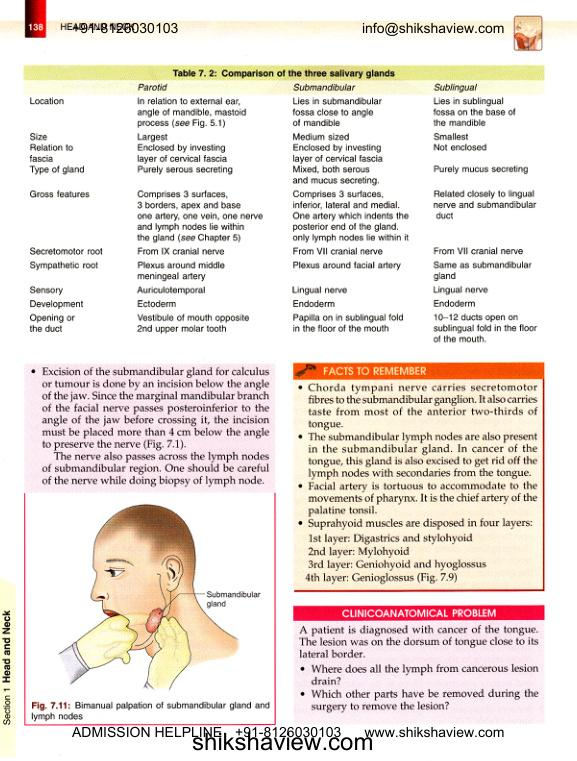caption: (29, 700, 272, 722), (172, 67, 396, 80), (340, 607, 498, 618), (322, 366, 429, 376)
image: (23, 492, 276, 726)
list: (296, 381, 539, 587), (298, 662, 540, 713)
table: (25, 80, 544, 345)
text: (39, 364, 271, 489), (298, 624, 540, 660)
